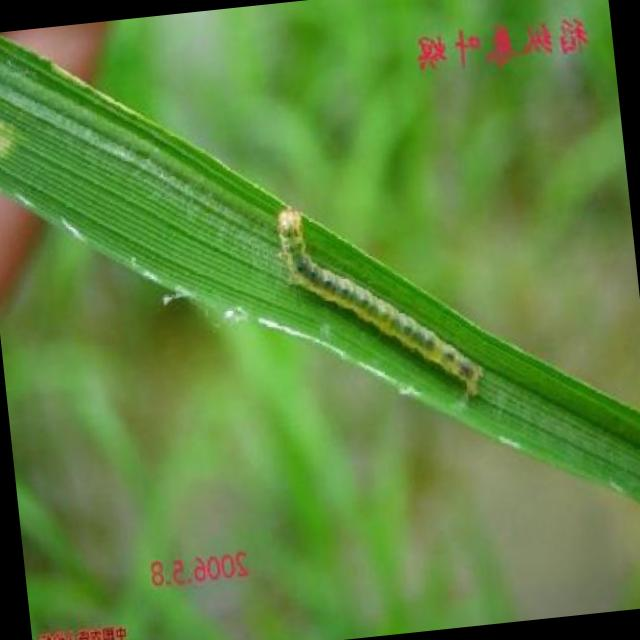leaf-folder: (262, 149, 501, 410)
